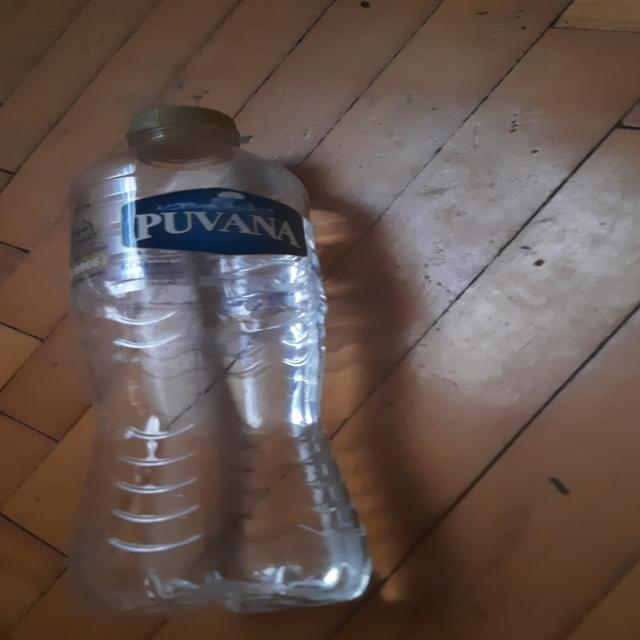Plastic: (68, 105, 374, 622)
